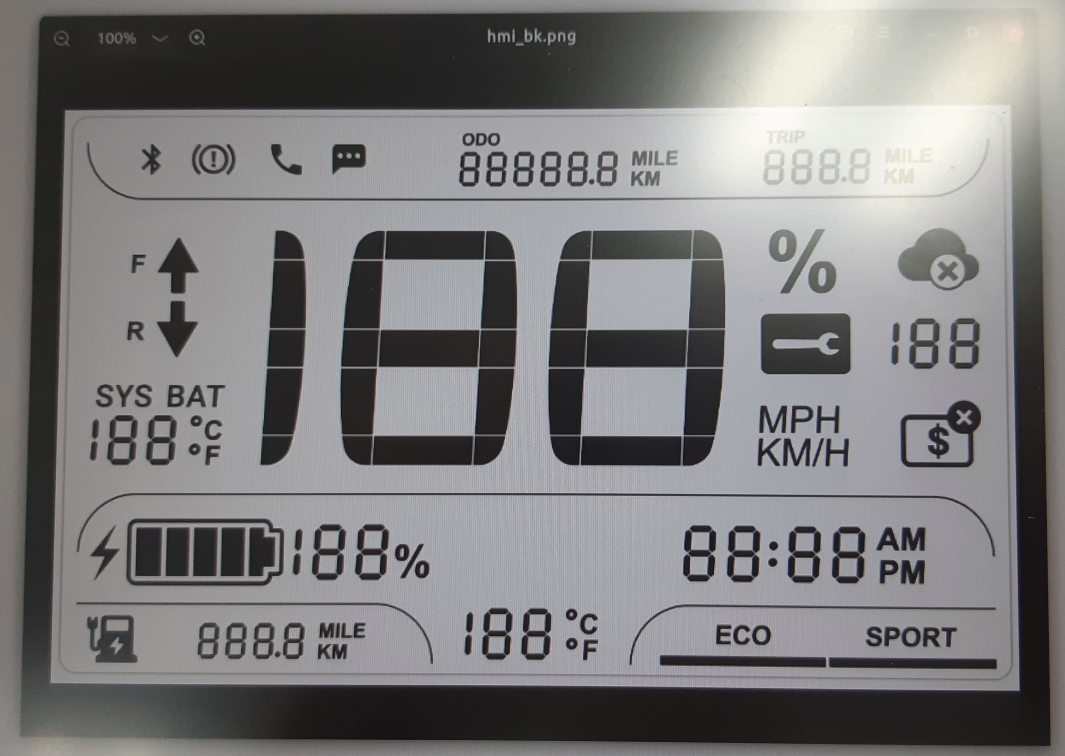bluetooth_on: (137, 139, 168, 181)
braking_on: (187, 139, 240, 180)
calling_on: (267, 136, 307, 179)
connection_lost: (892, 222, 985, 296)
error_code: (756, 307, 856, 377)
low_battery: (83, 610, 143, 668)
sms_on: (327, 139, 368, 177)
vin_id: (894, 397, 983, 471)
